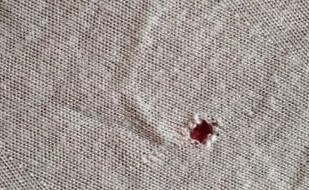hole: (184, 111, 225, 151)
